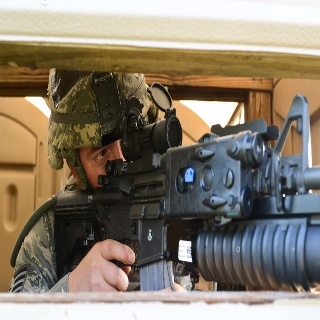rifle: (51, 81, 320, 289)
